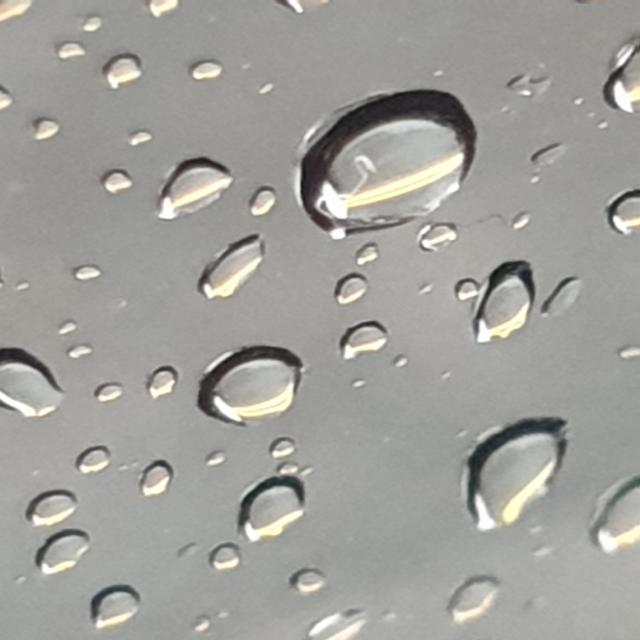raindrop: (293, 82, 473, 235), (447, 412, 567, 525), (184, 339, 307, 433), (168, 233, 281, 306), (222, 466, 316, 544), (430, 562, 522, 636), (148, 156, 240, 229), (491, 59, 577, 137), (468, 261, 544, 348), (0, 341, 71, 428), (589, 454, 640, 574), (18, 525, 112, 580), (75, 581, 160, 639), (599, 28, 640, 120), (228, 180, 307, 223), (89, 52, 164, 97), (314, 594, 384, 640), (125, 362, 192, 408), (550, 260, 594, 328), (280, 554, 342, 600), (117, 455, 180, 500), (180, 52, 242, 97), (336, 318, 392, 367), (66, 436, 126, 480), (265, 426, 319, 474), (64, 162, 134, 199), (52, 263, 121, 300), (341, 234, 396, 280), (32, 342, 126, 368), (313, 278, 380, 314), (438, 270, 501, 308), (522, 142, 588, 178), (10, 494, 81, 526), (603, 176, 640, 236), (188, 546, 258, 574), (118, 114, 172, 148), (133, 0, 200, 26), (72, 11, 120, 45), (410, 224, 466, 253), (42, 34, 92, 66), (78, 376, 134, 404), (212, 437, 246, 483), (0, 0, 51, 29), (31, 109, 63, 154), (46, 312, 81, 341)
